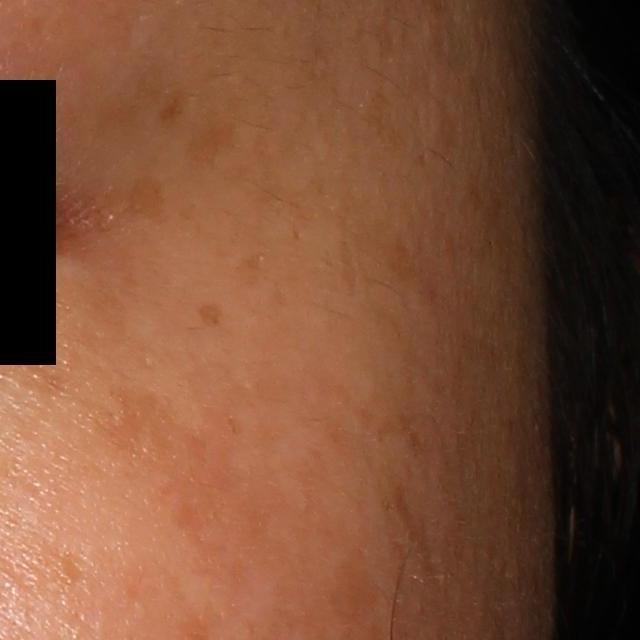melasma: (88, 382, 186, 480), (161, 76, 244, 160), (30, 274, 131, 331), (323, 548, 378, 617), (109, 173, 163, 227), (374, 220, 418, 281), (201, 302, 225, 327)
